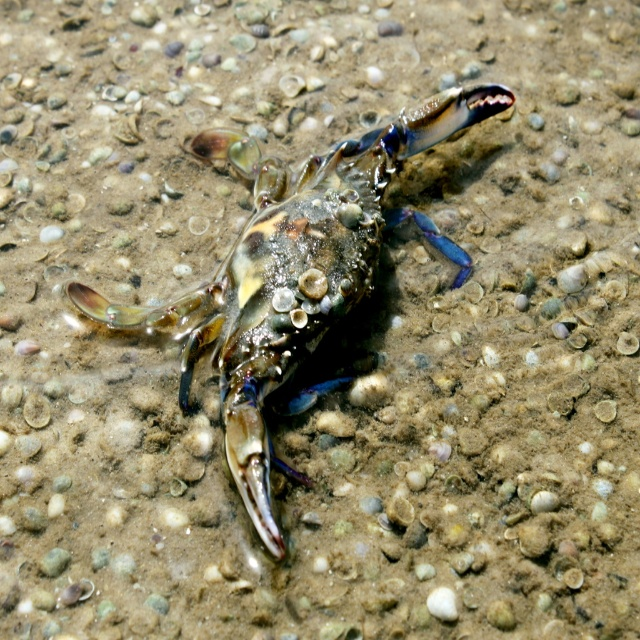Crab: (63, 82, 517, 564)
